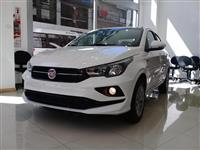car: (22, 27, 169, 120)
